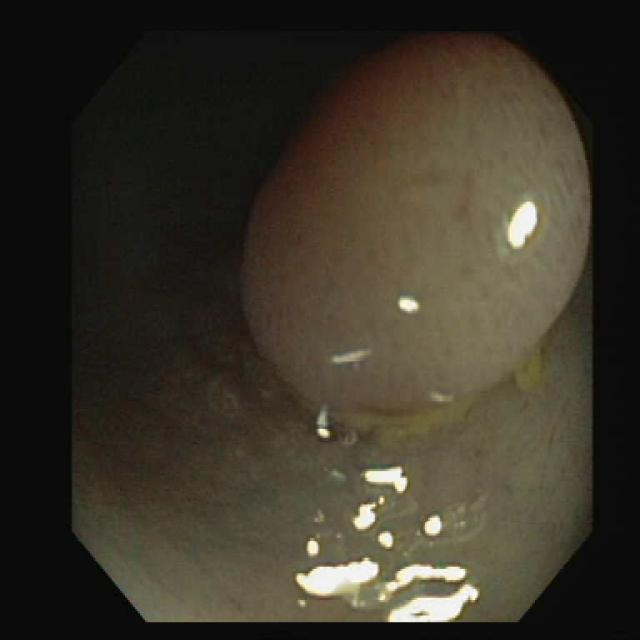tumor: (242, 36, 590, 389)
